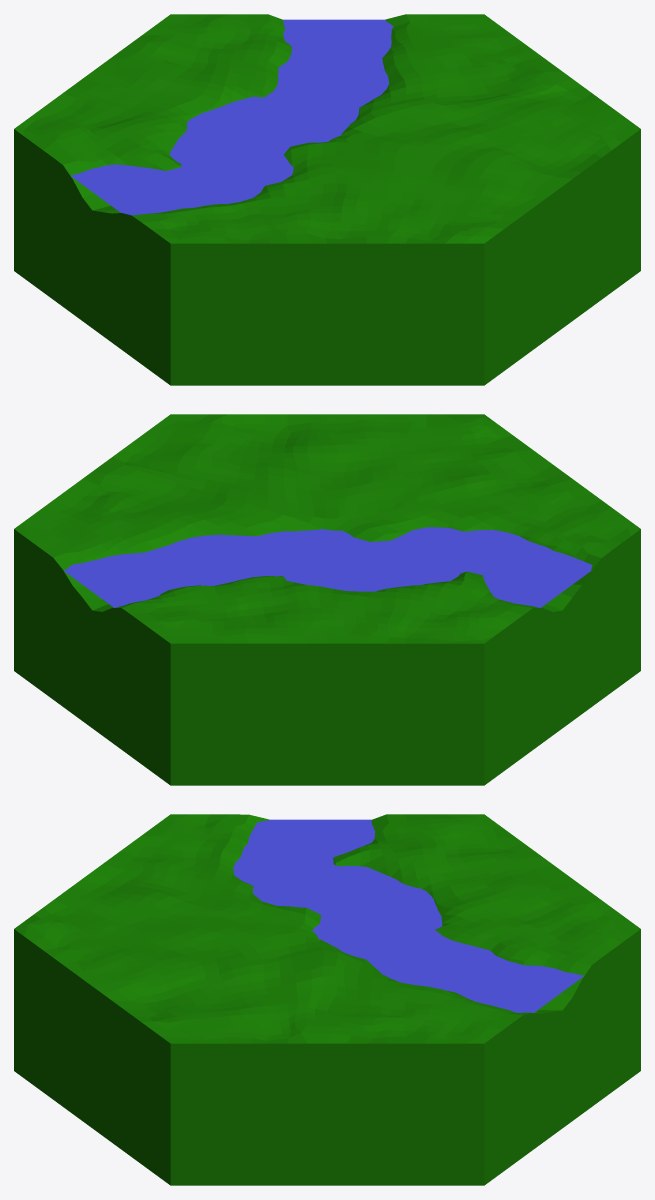
The model's file is hexagonwaterBakedRotation.fbx.
3 views of the same model, one above another, from view 1: azimuth 30°, elevation 25°; view 2: azimuth 150°, elevation 25°; view 3: azimuth 270°, elevation 25° (orthographic).
Parts seen in each view (by area): view 1: Cylinder; view 2: Cylinder; view 3: Cylinder.
Boxes of the visible parts, left/top/right/bottom form: Cylinder: left=14, top=14, right=640, bottom=385; Cylinder: left=14, top=414, right=640, bottom=785; Cylinder: left=14, top=814, right=640, bottom=1185.
Size of the model in its own units: 173 by 51.61 by 200.
